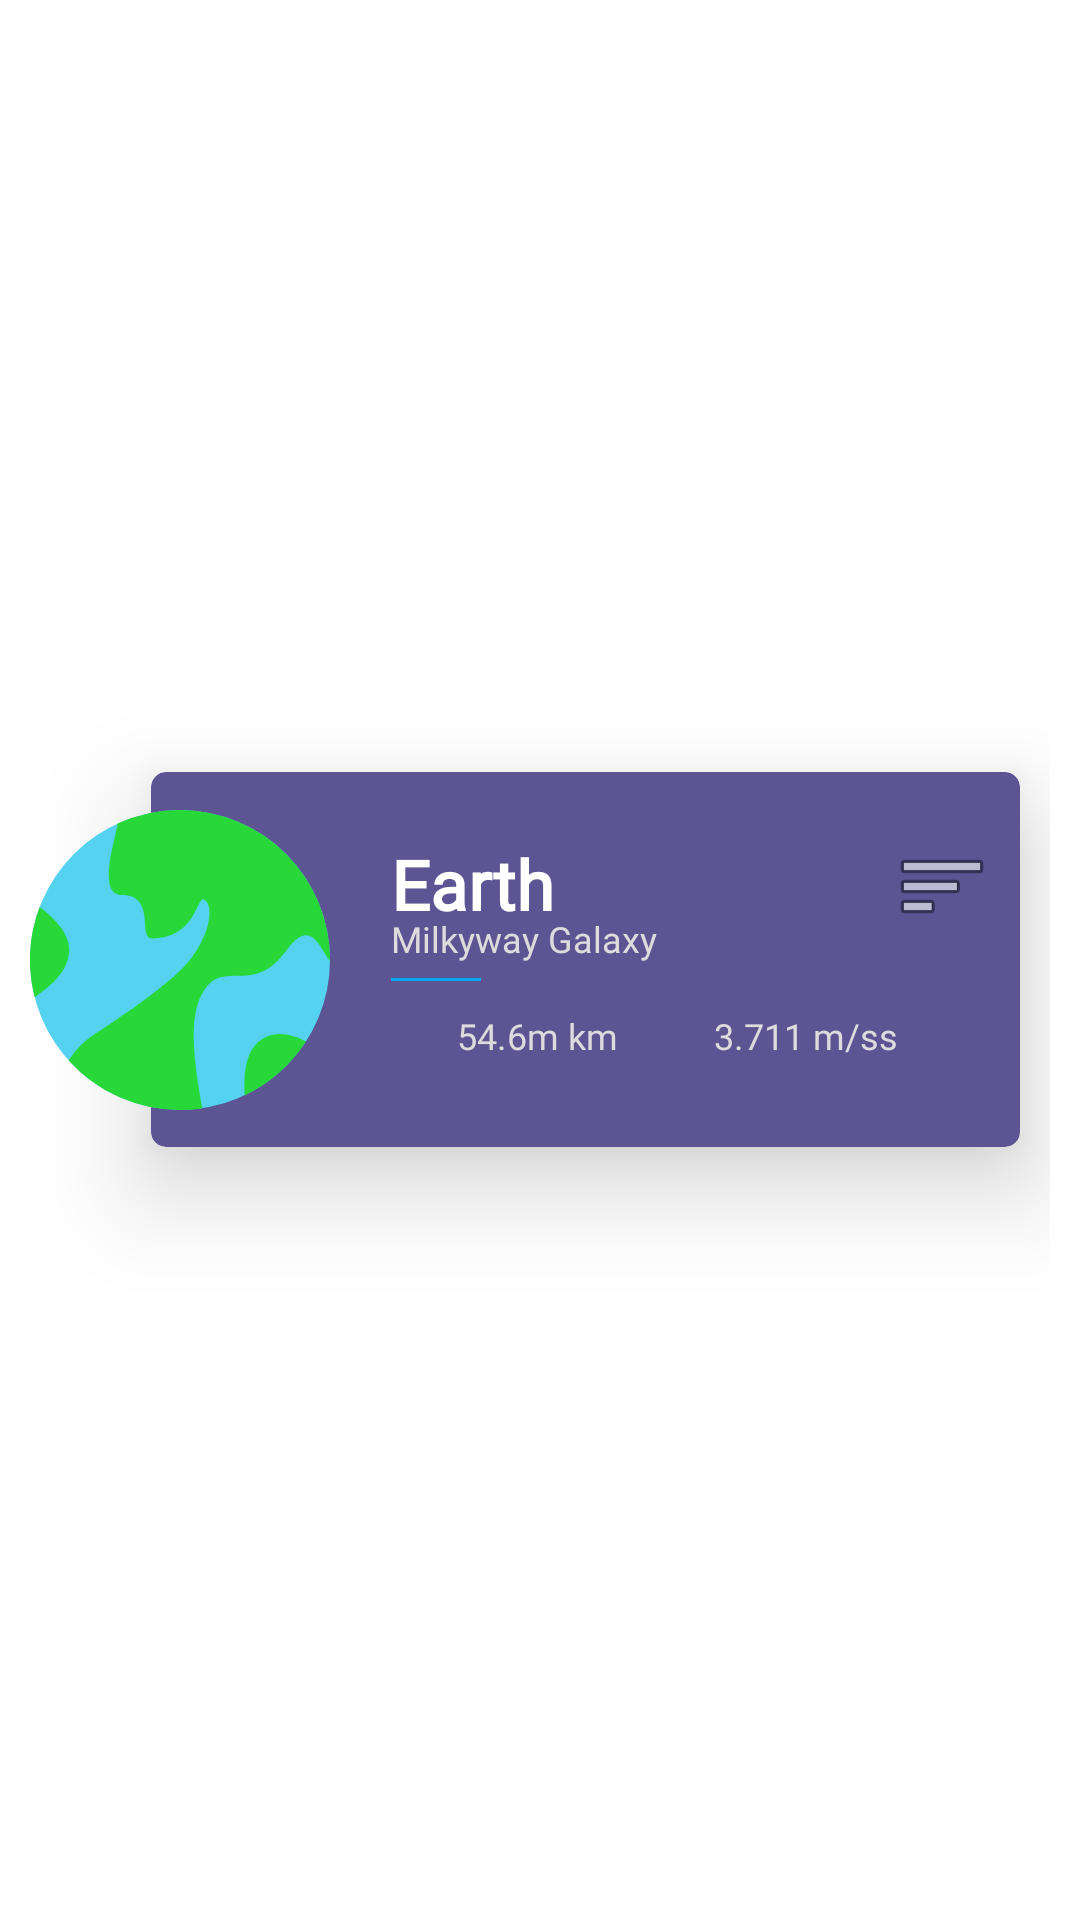

Icon click points for this 1080px×1920px phone screenshot, format (x=x, y=y):
sort by size: (x=942, y=886)
